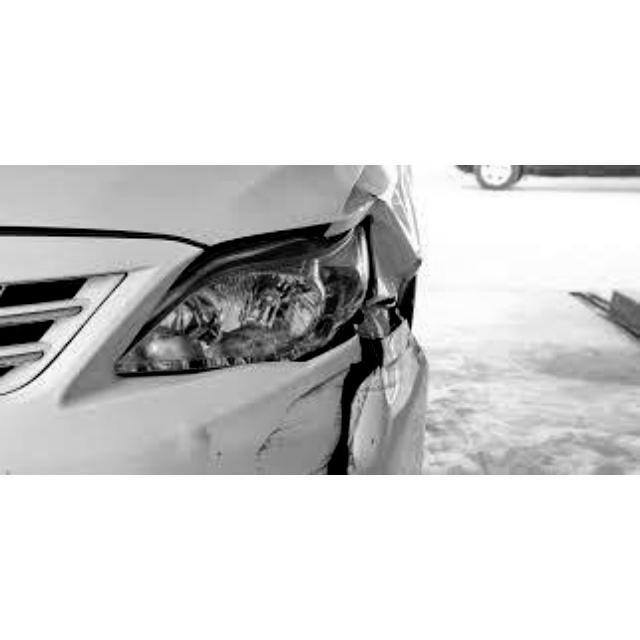Headlight-damage: (105, 199, 405, 377)
front-bumper-dent: (13, 323, 444, 474)
